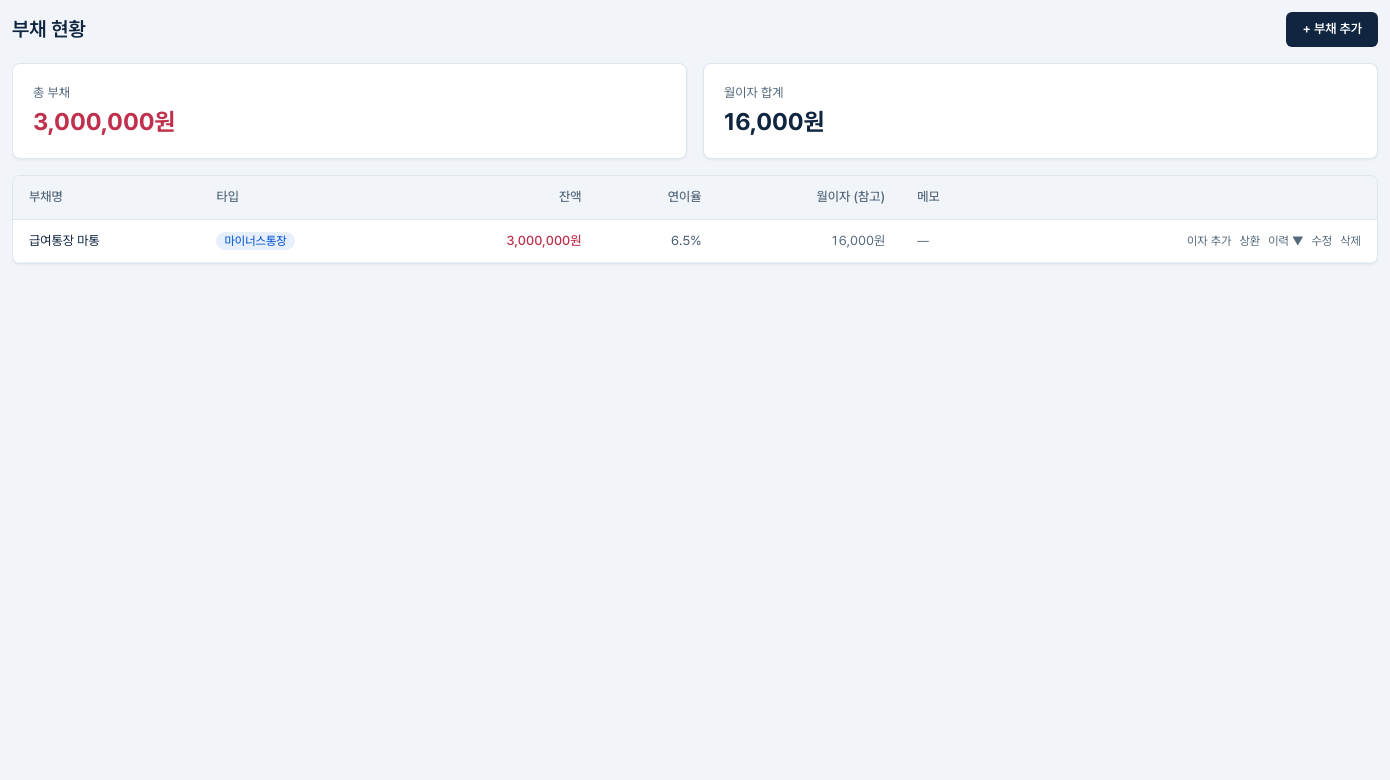
it: 이자 이력 표시 › 이력이 없으면 없다고 알린다
Expected: the text "급여통장 마통" is shown, [13,219,200,263]
Click the button "이력 ▼" at (1286, 241), box [1268,233,1304,249]
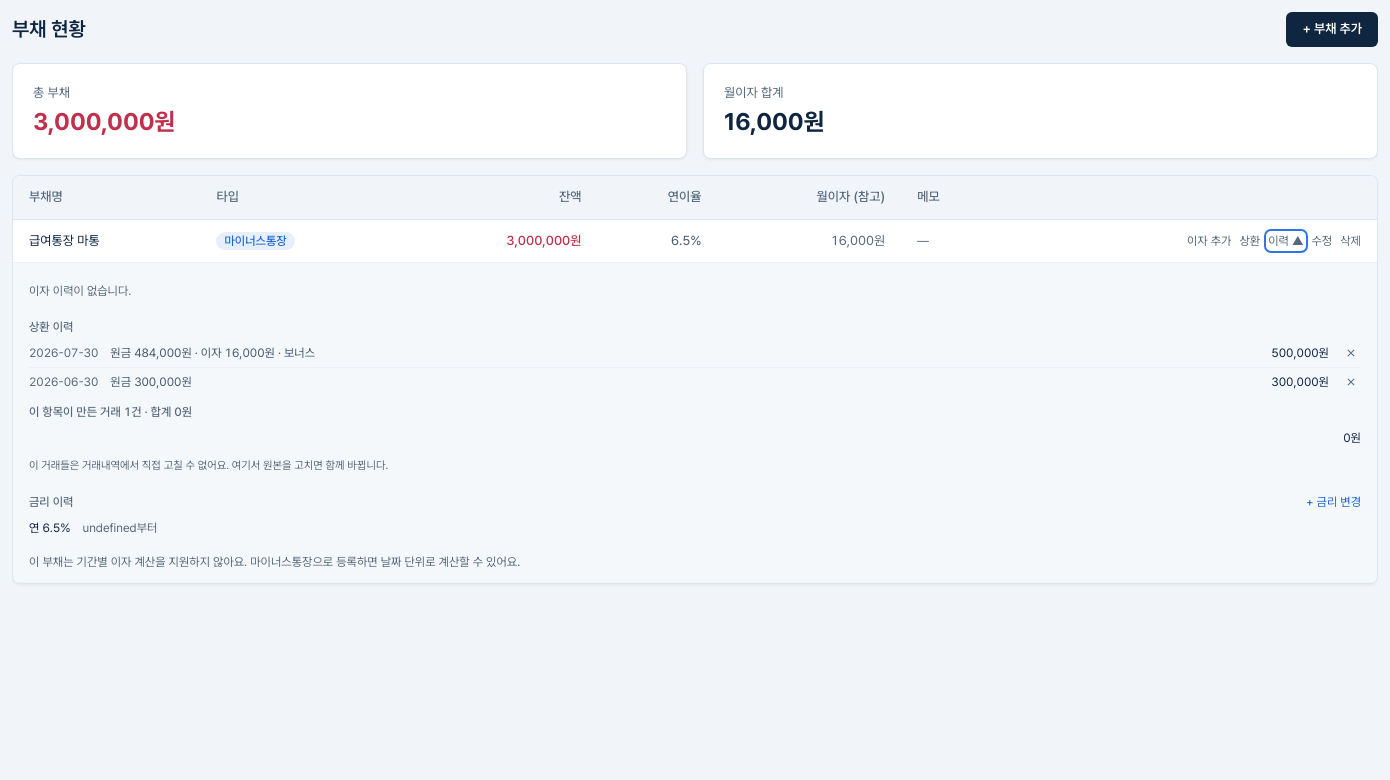
Expected: the text "이자 이력이 없습니다." is shown, [29,284,131,298]
